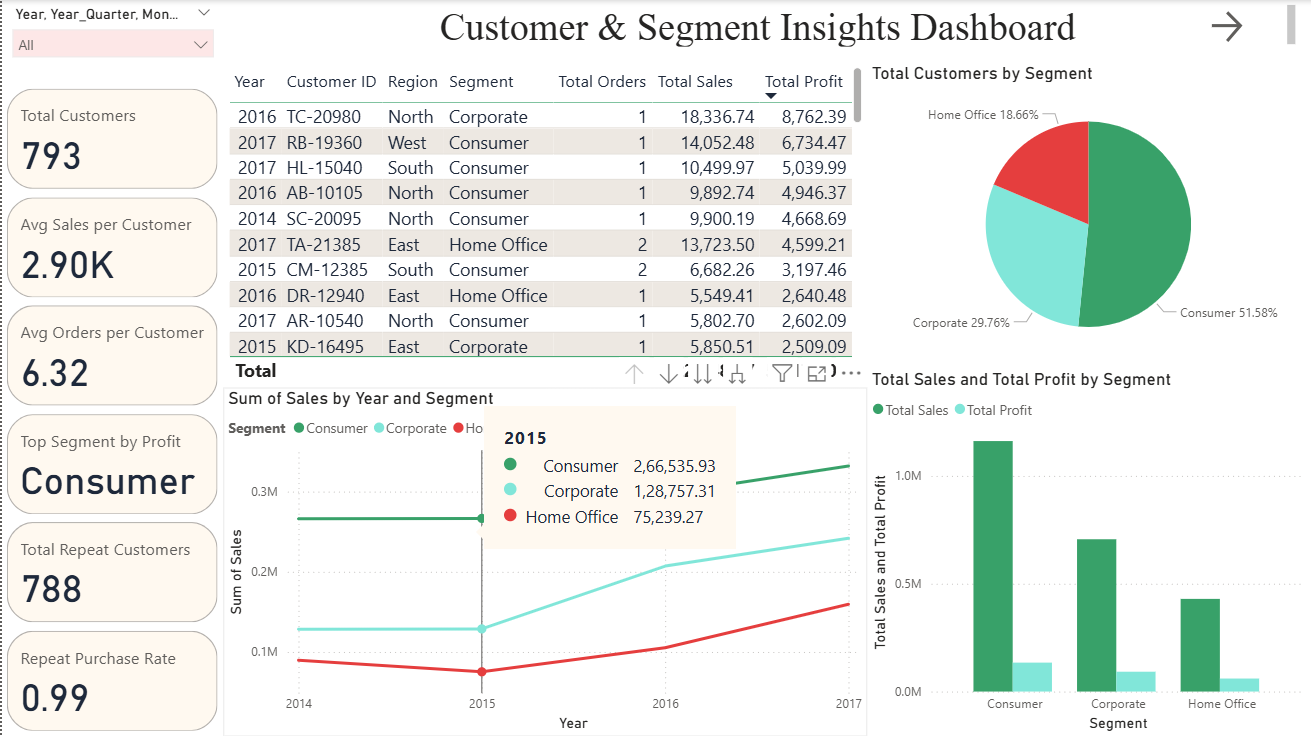

The dashboard page shown, as its layout file describes it:
{"tool":"powerbi","page":{"name":"Page 4","canvas":[1280,720],"ordinal":3},"visuals":[{"type":"cardVisual","fields":{"Data":["Customer.Total Customers","Customer.Avg Sales per Customer","Customer.Avg Orders per Customer","Customer.Top Segment by Profit","Customer.Repeat Purchase Rate","Customer.Repeat Purchase Rate1"]},"box":[0,82.3,216.8,638.1],"z":0},{"type":"textbox","box":[216.8,0,1053.9,50.8],"z":1000},{"type":"clusteredColumnChart","title":"Total Sales and  Total Profit  by Segment","fields":{"Category":["Customer.Segment"],"Y":["Sales.Total Sales","Sales.Total Profit"]},"box":[846.7,360.9,433.6,359.5],"z":2000},{"type":"tableEx","fields":{"Values":["Date.Year","Customer.Customer ID","Geography.Region","Customer.Segment","Customer.Total Orders","Sales.Total Sales","Sales.Total Profit"]},"box":[216.8,61.7,629.8,317],"z":3000},{"type":"pieChart","fields":{"Category":["Customer.Segment"],"Y":["Customer.Total Customers"]},"box":[846.7,61.7,433.6,297.8],"z":4000},{"type":"lineChart","fields":{"Category":["Date.Year","Date.Month"],"Series":["Customer.Segment"],"Y":["Sum(Sales.Sales)"]},"box":[216.8,378.7,629.8,341.7],"z":5000},{"type":"actionButton","box":[1177.4,5.7,71.3,39.9],"z":6000},{"type":"slicer","fields":{"Values":["Date.Year","Date.Year_Quarter","Date.Month"]},"box":[0,0,216.8,82.3],"z":7000}]}

Visuals, with their boxes in screenshot pixels (x1, y1, x2, y2), scaled from the page's 1280x720 canvas onto the 1311x736 screenshot:
cardVisual - Customer.Total Customers x Customer.Avg Sales per Customer: bbox=[0, 84, 222, 735]
textbox: bbox=[222, 0, 1301, 52]
"Total Sales and  Total Profit  by Segment" clusteredColumnChart: bbox=[867, 369, 1310, 735]
tableEx - Date.Year x Customer.Customer ID: bbox=[222, 63, 867, 387]
pieChart - Customer.Segment x Customer.Total Customers: bbox=[867, 63, 1310, 367]
lineChart - Date.Year x Date.Month: bbox=[222, 387, 867, 735]
actionButton: bbox=[1206, 6, 1279, 47]
slicer - Date.Year x Date.Year_Quarter: bbox=[0, 0, 222, 84]
